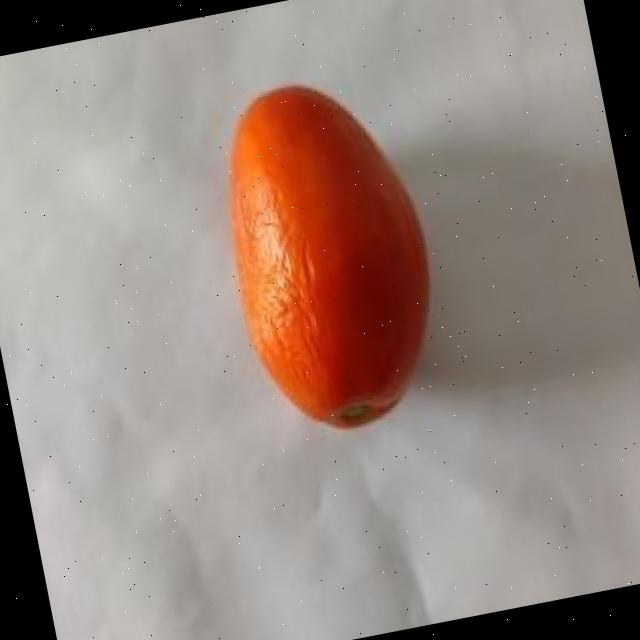Ripe: (198, 59, 459, 447)
